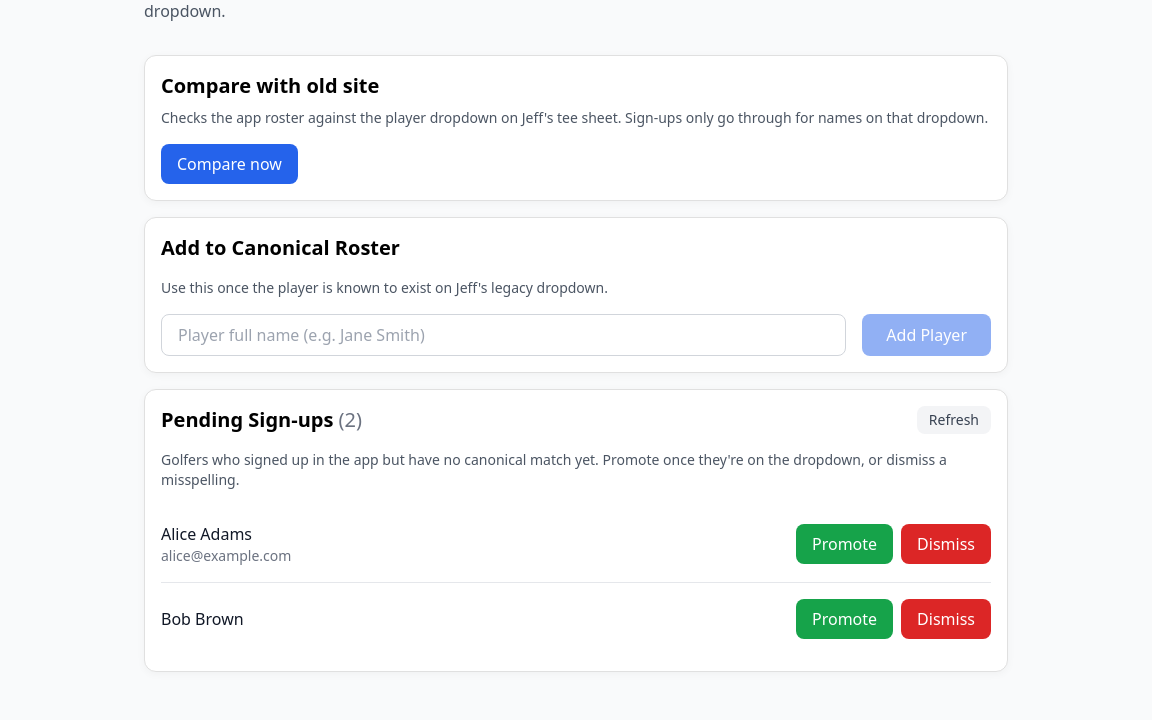
RosterManager › DISMISS posts to the dismiss endpoint with bearer auth
This screenshot has width=1152, height=720.
(page scrolled)
Expected: the list item with test id "pending-row-22" is shown, [161, 582, 991, 655]
Step 1. Click the button "Dismiss" in the row of "Bob Brown" → (946, 619), box [901, 599, 991, 639]
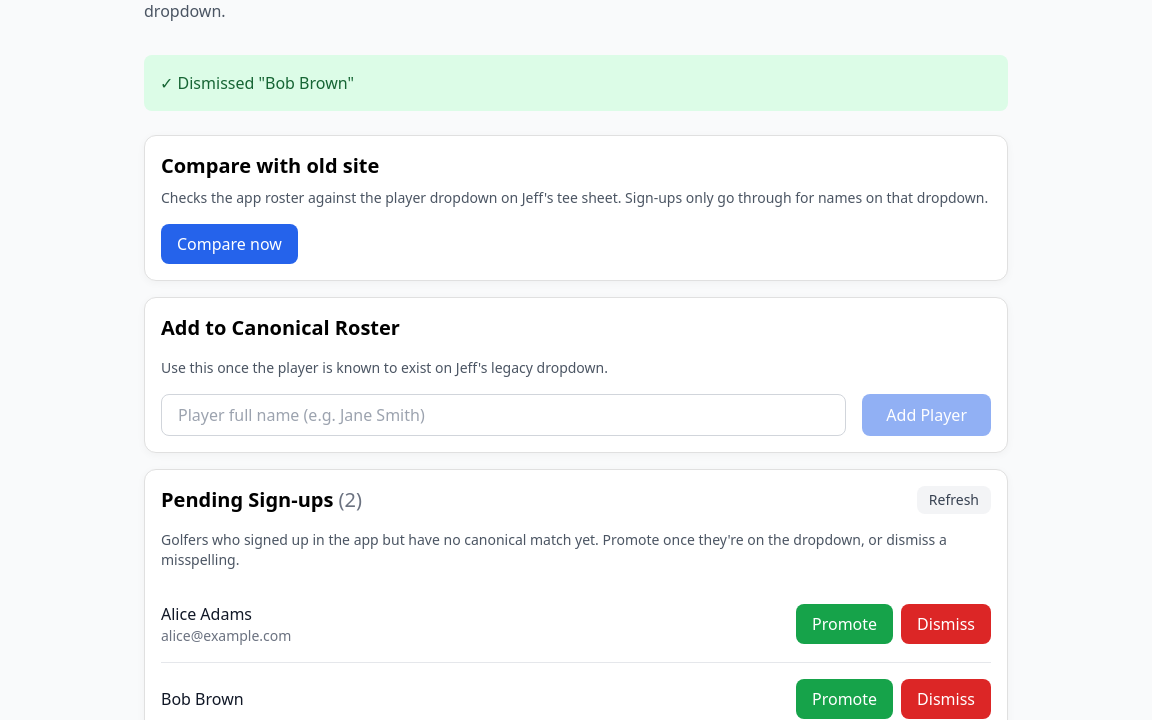
Result: the text with test id "roster-feedback" shows "Dismissed" at [160, 72, 354, 94]
